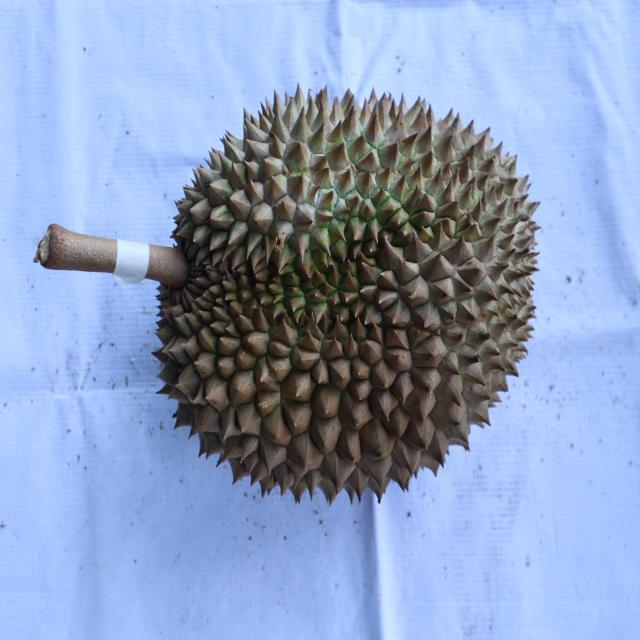mature: (150, 85, 542, 503)
